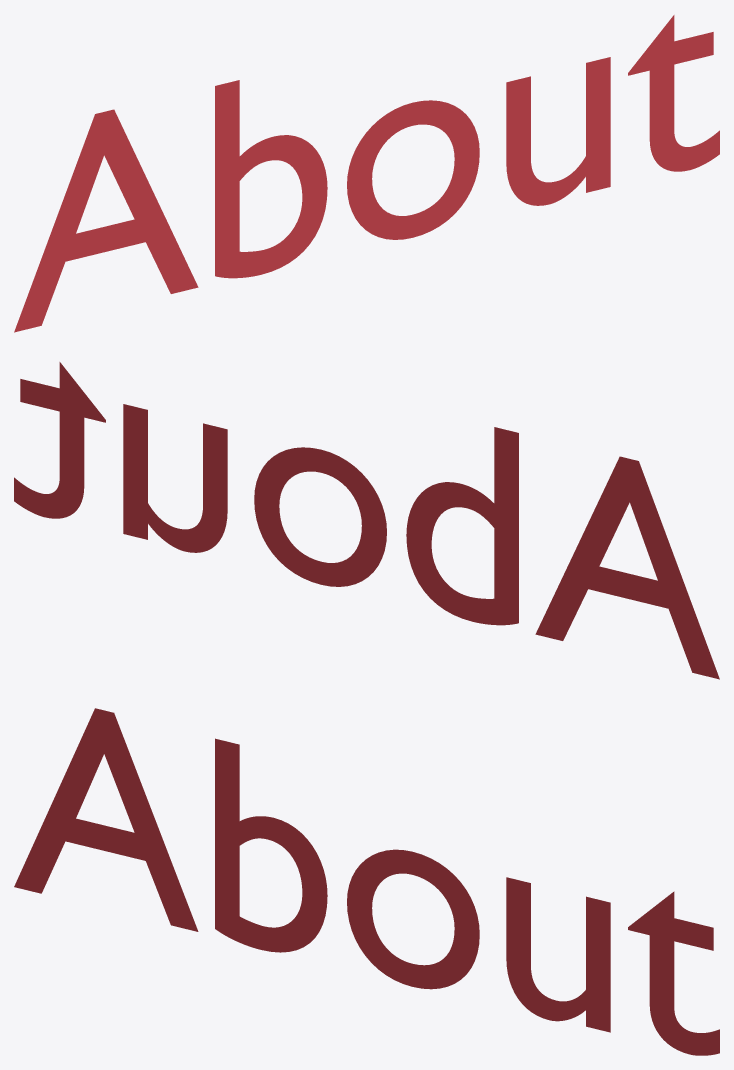
File: about.glb
3 views of the same model, one above another, from view 1: azimuth 30°, elevation 25°; view 2: azimuth 150°, elevation 25°; view 3: azimuth 330°, elevation 25° (orthographic).
Visible parts, largest first — view 1: Text; view 2: Text; view 3: Text.
Boxes of the visible parts, box(x1,y1,x2,y2) form: Text: box(14, 15, 719, 332); Text: box(14, 362, 719, 679); Text: box(14, 708, 719, 1055).
Bounding box in the file's own units: 2.55 × 0.695 × 1.54e-16.
